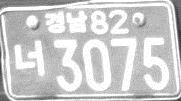0: (81, 37, 113, 90)
2: (108, 8, 130, 36)
3: (51, 37, 83, 92)
5: (142, 35, 169, 90)
7: (108, 35, 138, 92)
8: (89, 9, 108, 35)
경남_O: (43, 9, 87, 35)
너: (13, 39, 45, 76)
